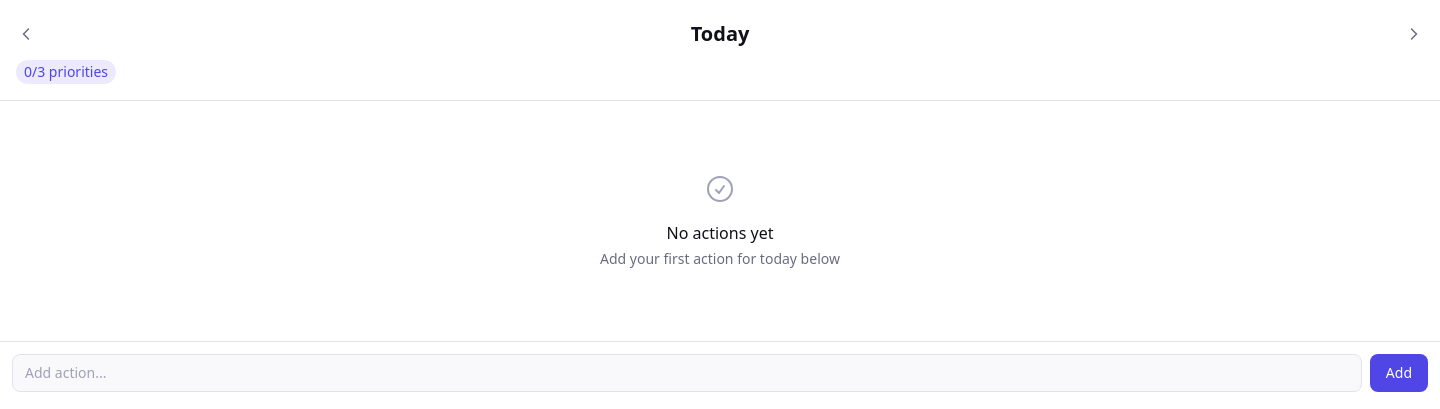
it: ActionList › navigates to the previous day and back to today
The width and height of the screenshot is (1440, 409).
Expected: the heading reads "Today", [691,20,749,47]
Click the button named "previous day" at [26, 34], box [8,16,44,52]
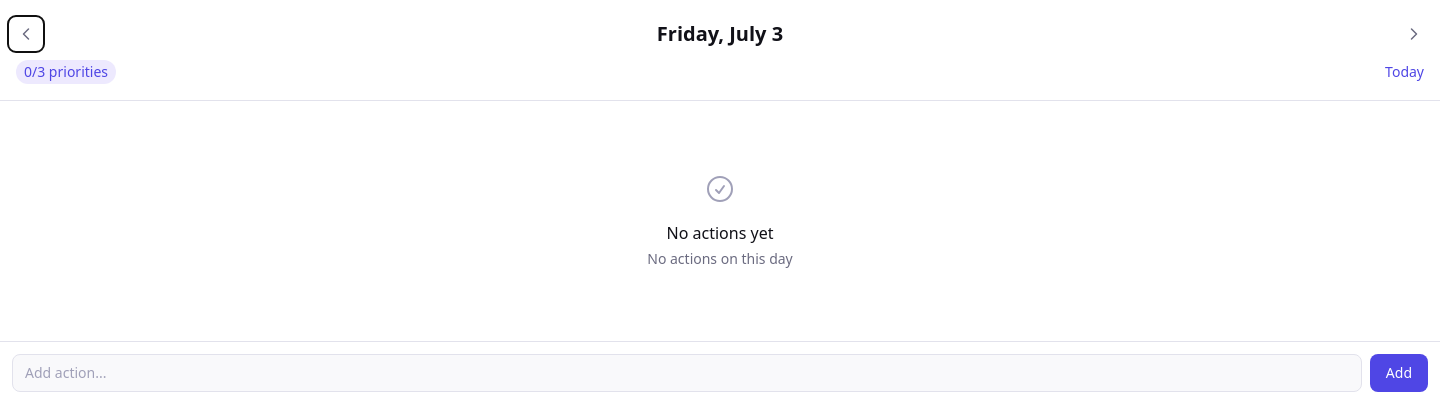
Expected: the heading does not show "Today", [657,20,783,48]
Click the button "Today" at [1405, 72], box [1385,62,1424,82]
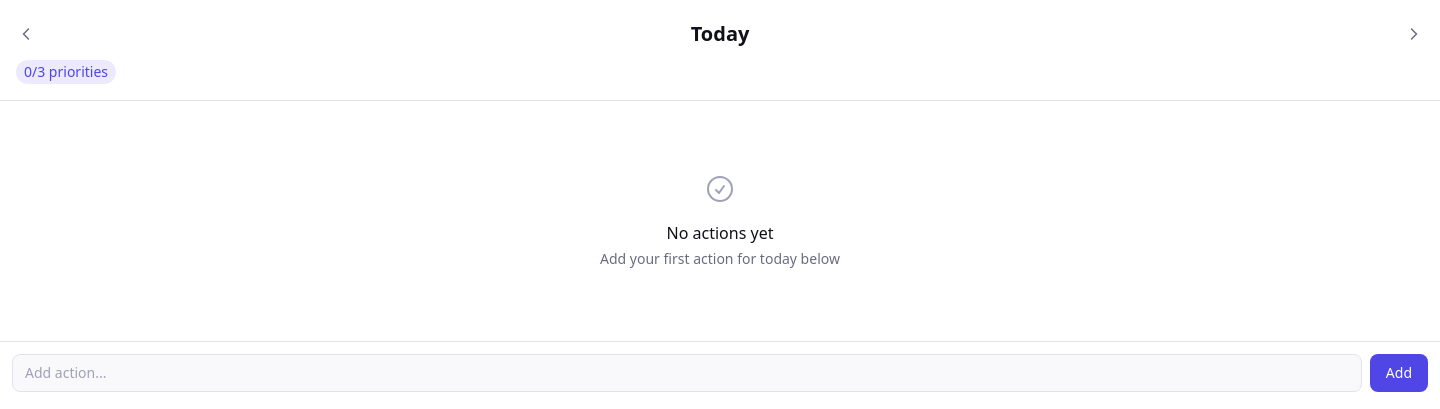
Now the heading reads "Today", box [691,20,749,47]
